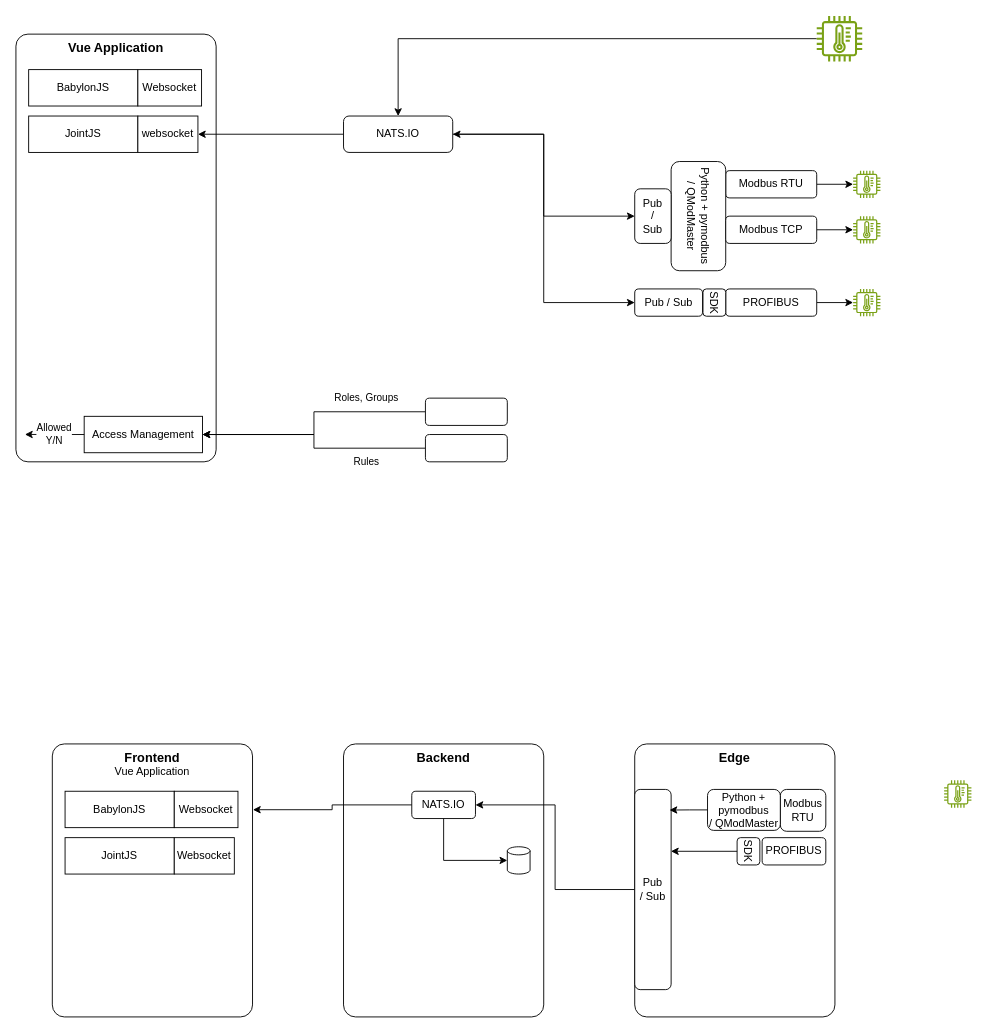
Some shapes in this 994 by 1033 pixel diagram are drawn without their labels. Each missing label, with the centre of its shape:
DB: (518,860)
Drool: (466,448)
Keycloak: (466,411)
Sensors: (957,793)
